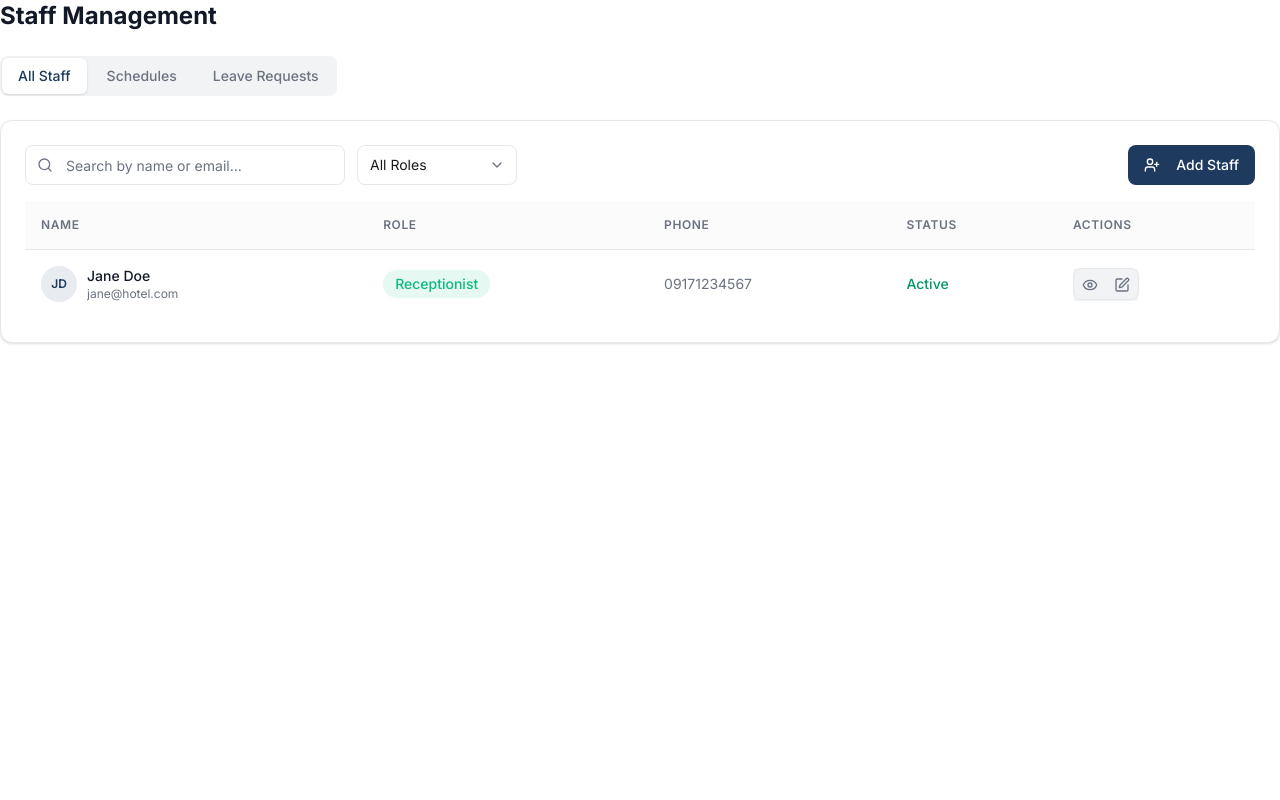
Test: StaffPage › validates mismatched passwords in the edit staff form
Click the button titled "Edit" at (1122, 284), box [1106,268,1138,300]
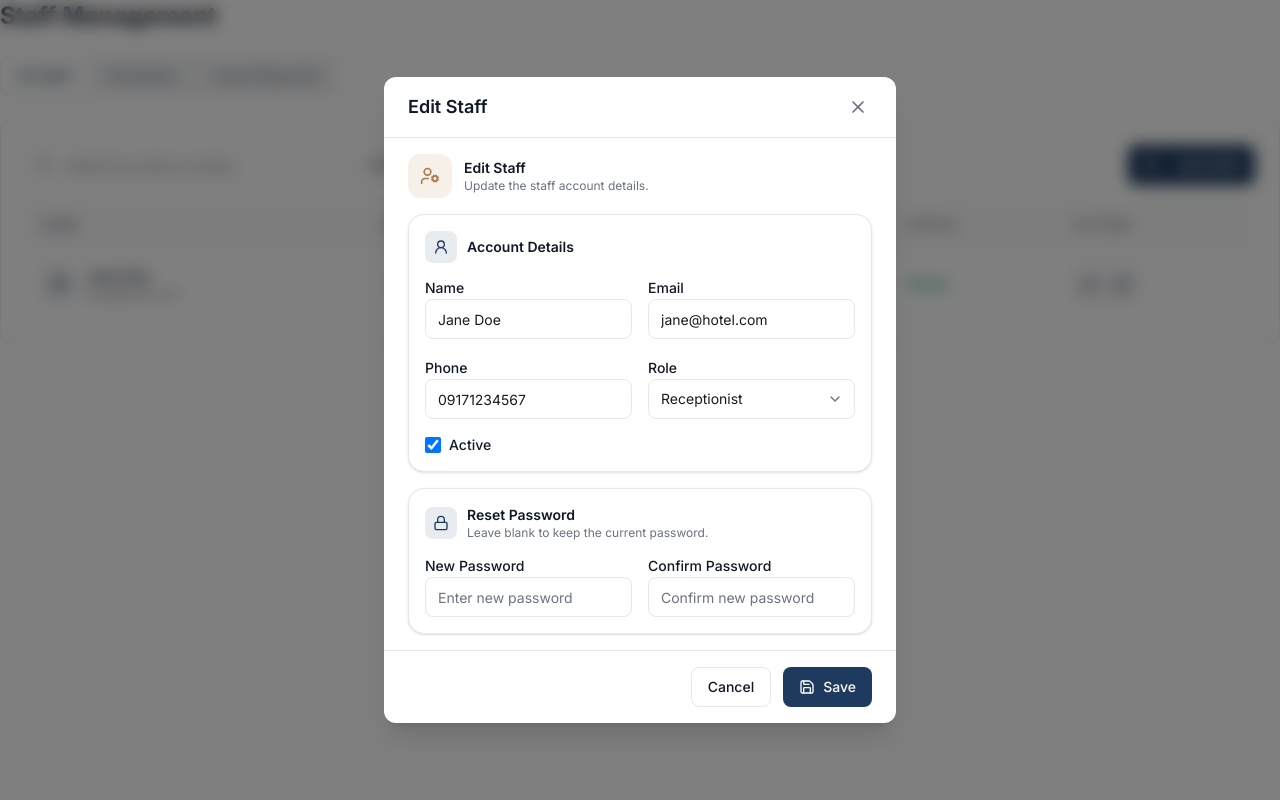
Type "NewSecret123" into the password field labelled "New Password" at (528, 597), box [425,577,632,617]
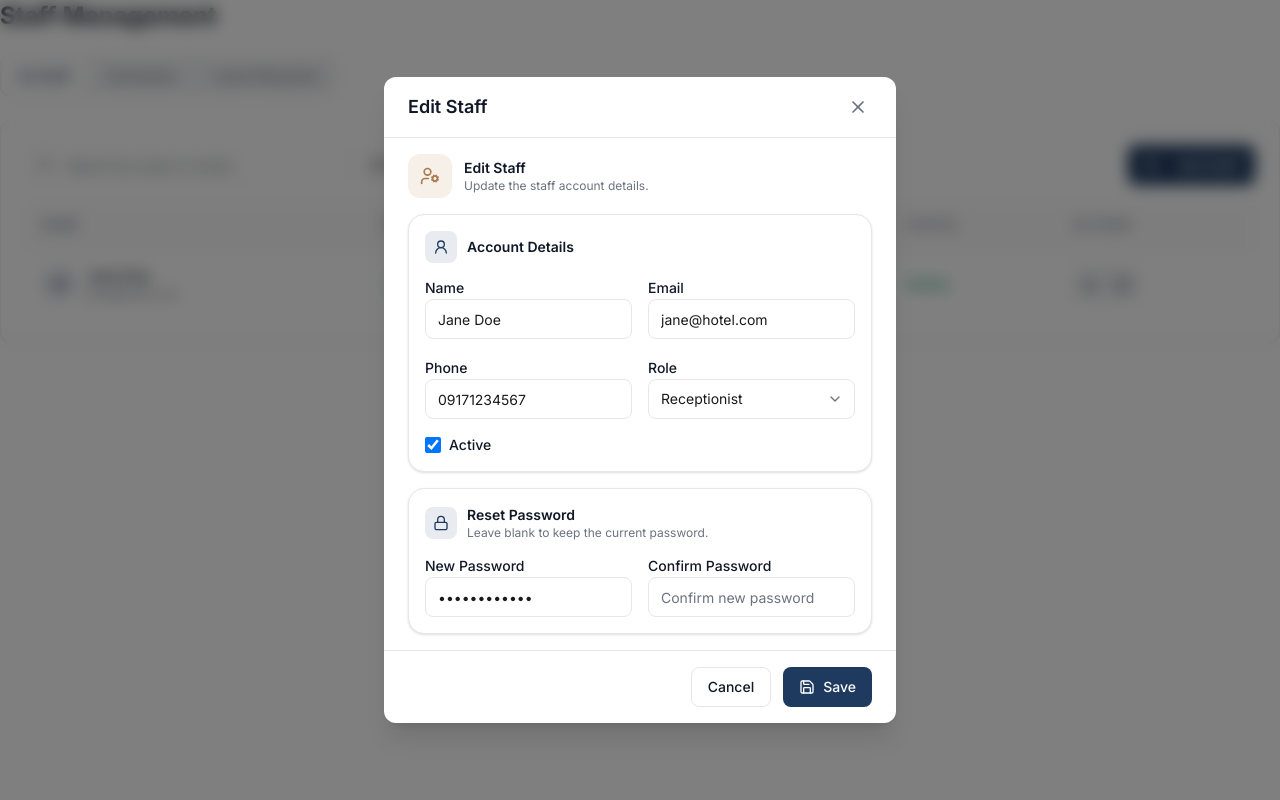
Type "Different123" into the password field labelled "Confirm Password" at (752, 597), box [648,577,855,617]
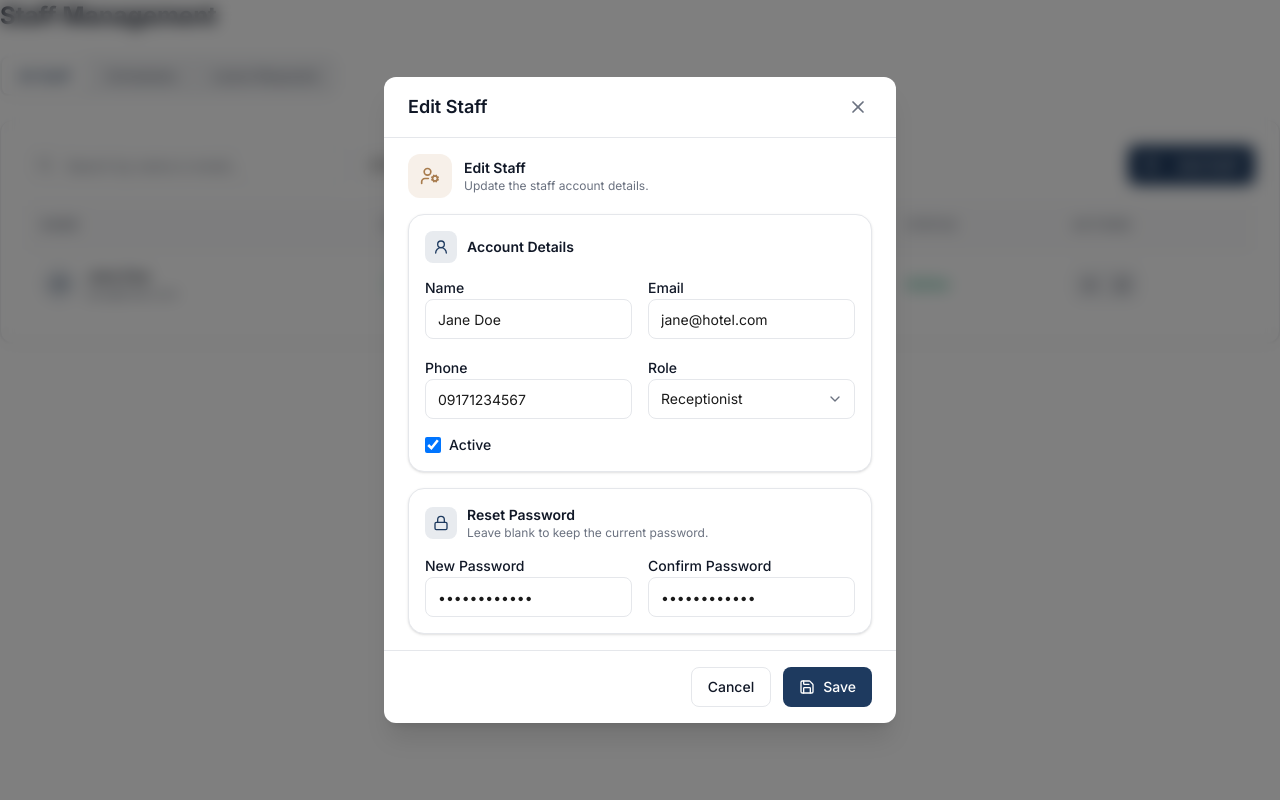
Click the button "Save" at (828, 687), box [783,667,872,707]
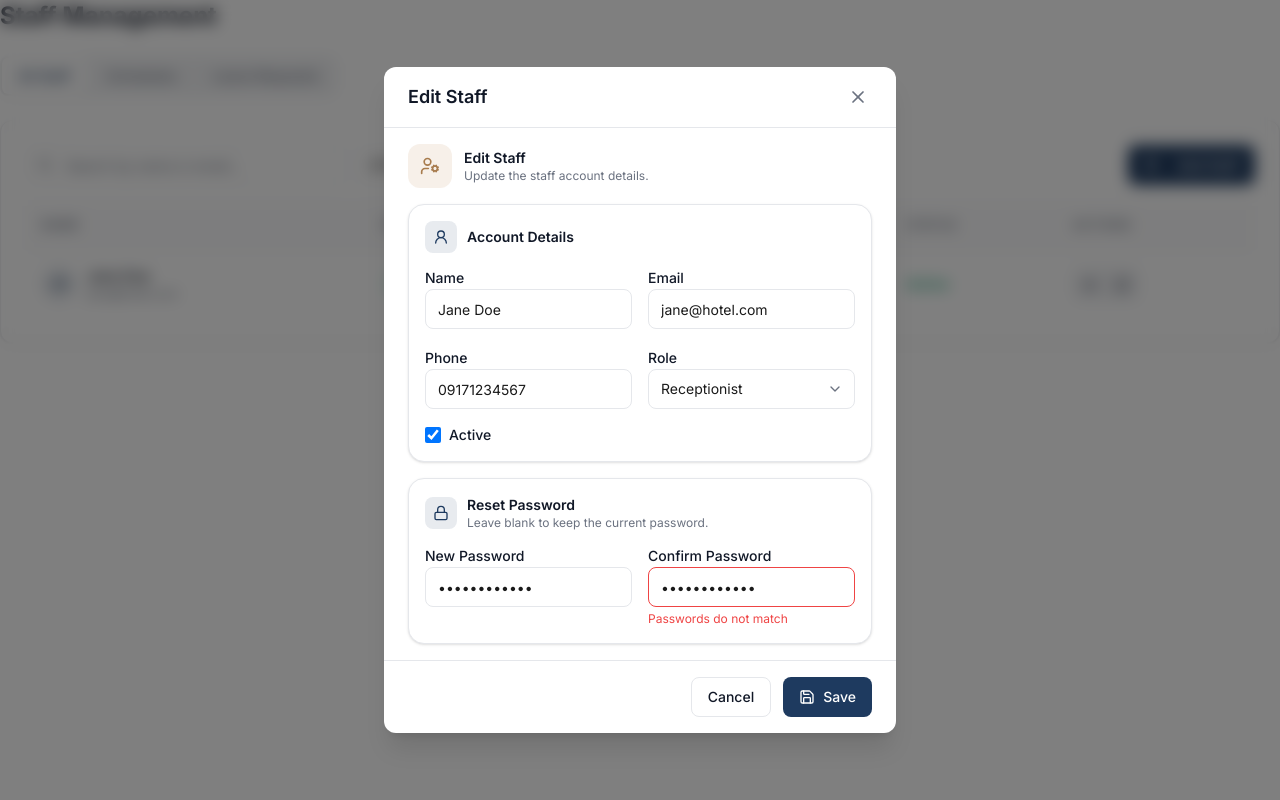
Now the text "Passwords do not match" is shown, box [648,611,788,626]
